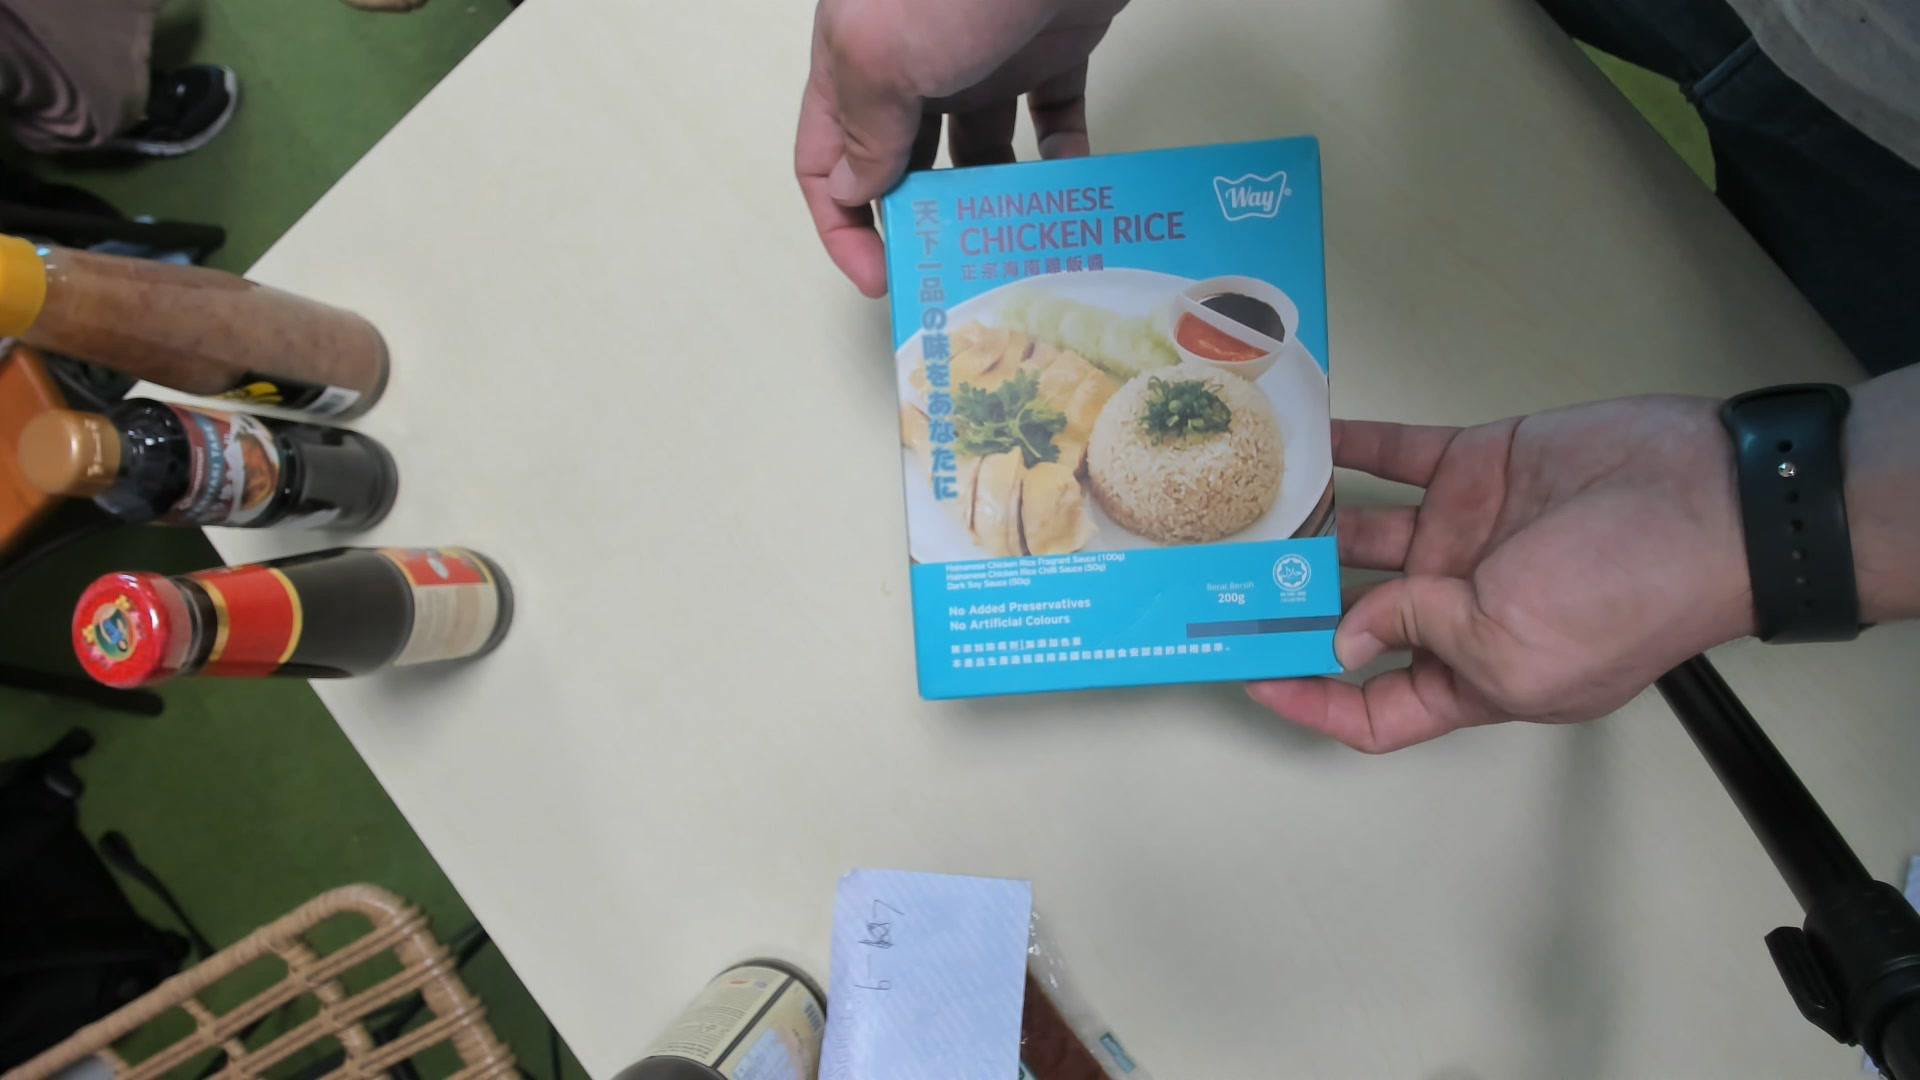OtherSauceDressingSoupbasePaste_200-299g_Halal_NonHealthy: (872, 140, 1340, 700)
